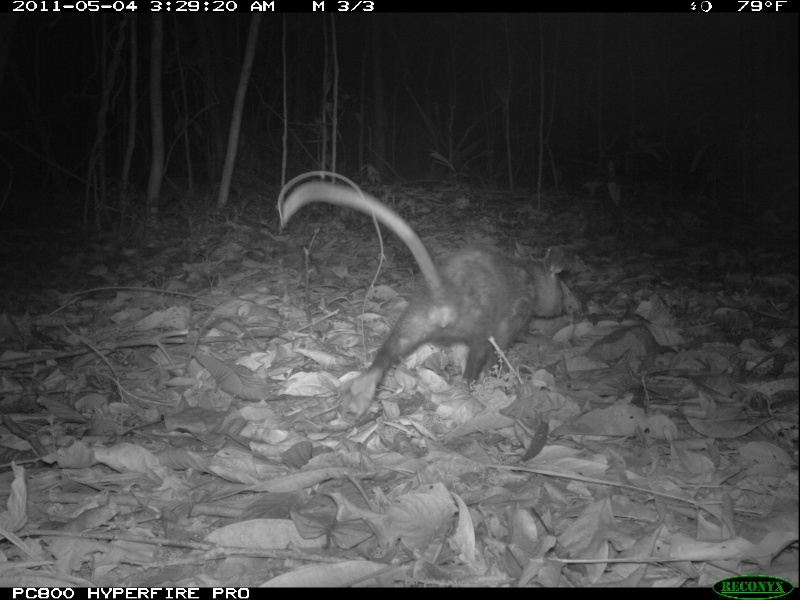opossum: (277, 173, 571, 388)
